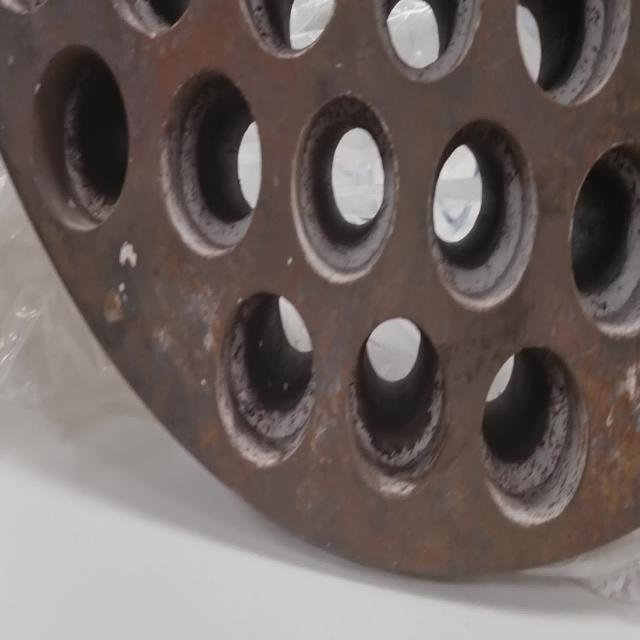Hole: (427, 114, 538, 310), (290, 91, 400, 283), (480, 344, 592, 528), (160, 65, 264, 258), (213, 286, 317, 469), (32, 42, 132, 232), (348, 315, 447, 500), (568, 140, 640, 338), (514, 1, 633, 108), (377, 0, 491, 79)
